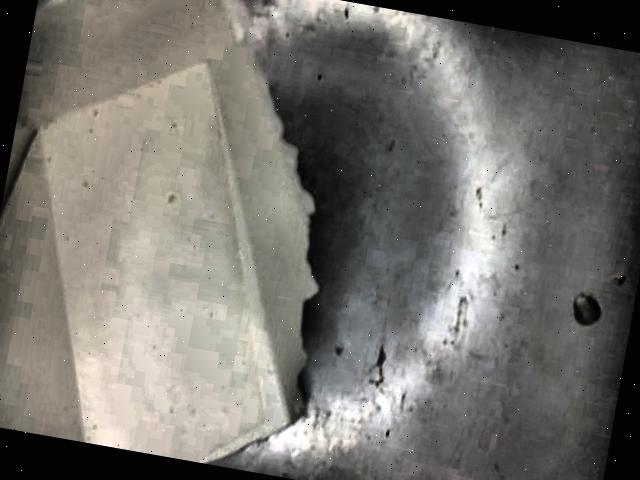Paper: (0, 0, 325, 463)
